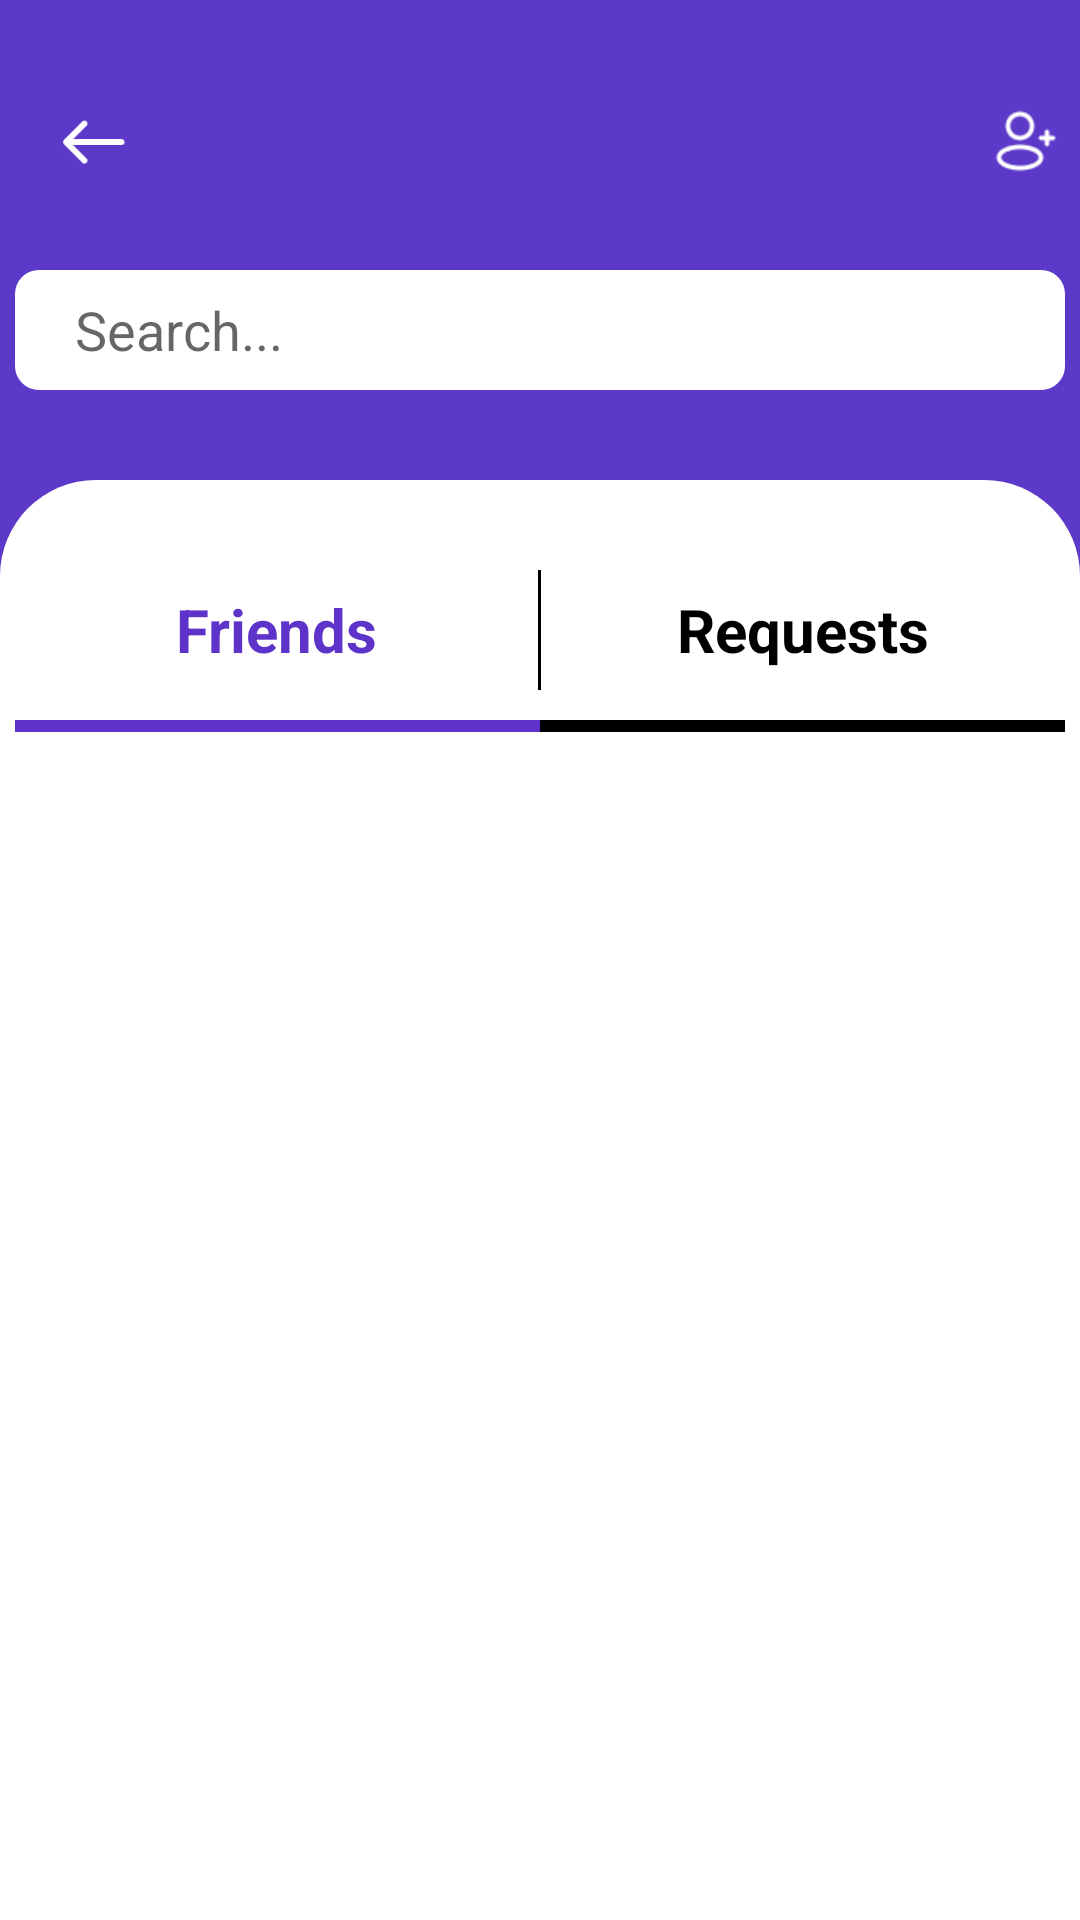

Named icons in this screenshot (1080px×1920px) and their bounding boxes, region(x1, y1, x2, y2):
back arrow: region(63, 120, 125, 164)
